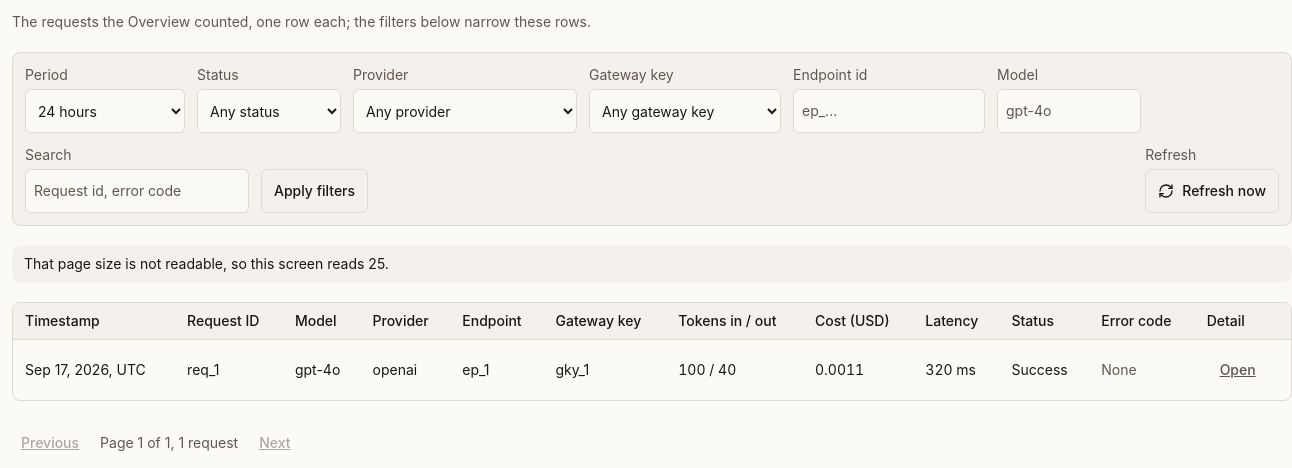
the records page size and a failed read › keeps the page size correction visible until the operator changes a filter
The image size is (1292, 468).
Check: the table is shown, box [13, 303, 1291, 400]
Check: the text "That page size is not readable, so this screen reads 25." is shown, box [24, 255, 389, 272]
Select "7 days" in the dropdown labelled "Period" at (105, 111), box [25, 89, 185, 133]
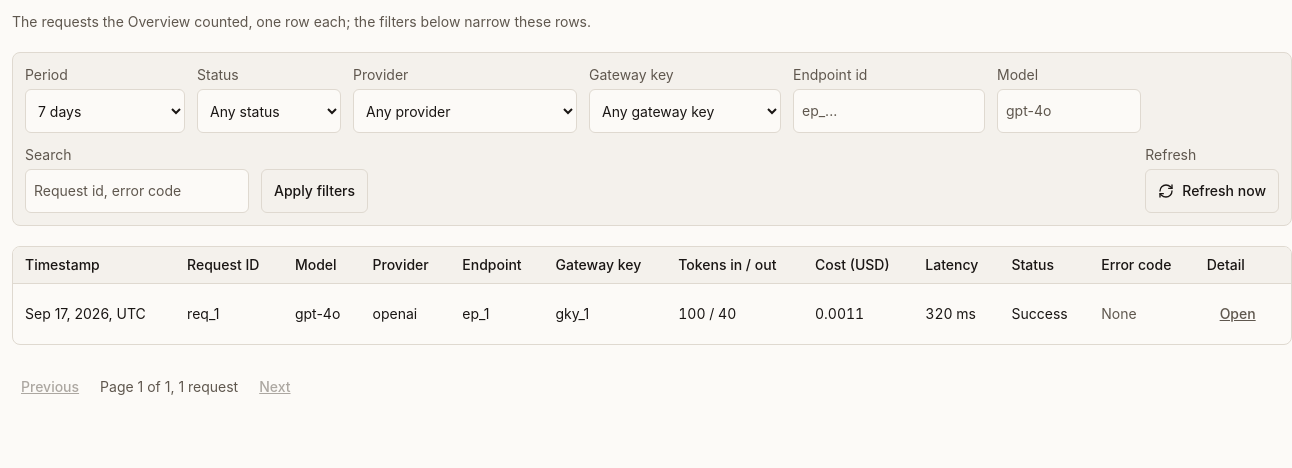
Check: the text "so this screen reads 25" is gone
